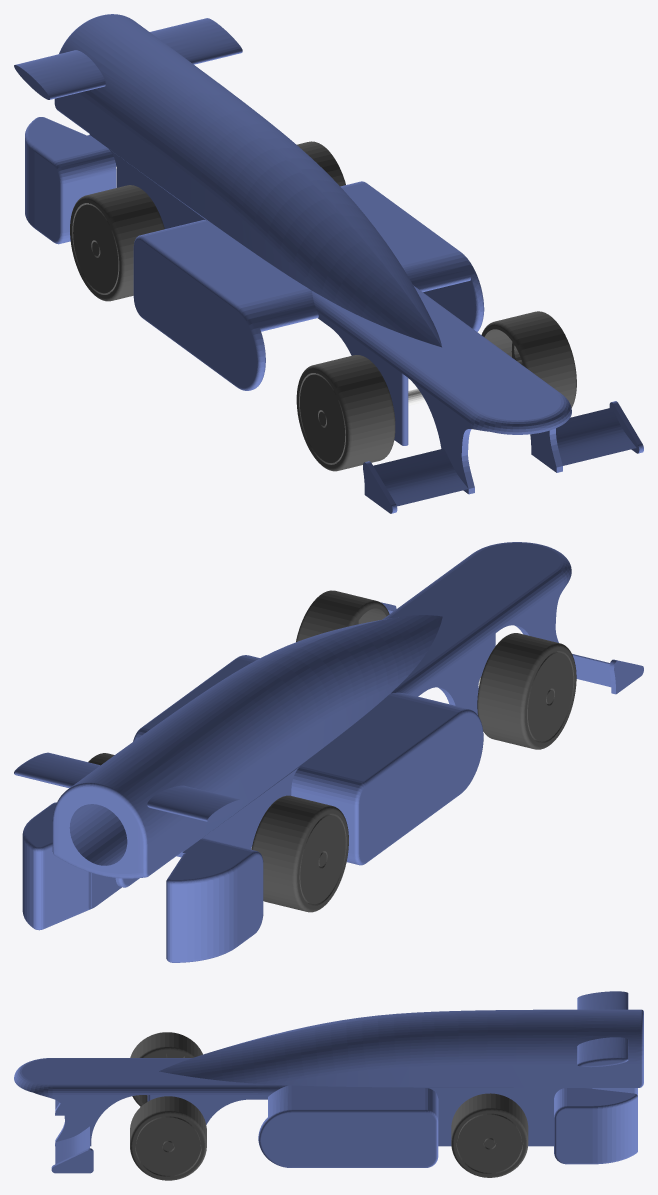
File: car.glb
The picture shows the model from 3 angles, top to bottom: view 1: azimuth 30°, elevation 25°; view 2: azimuth 150°, elevation 25°; view 3: azimuth 270°, elevation 25°; orthographic projection. The views are drawn at different scales.
Parts seen in each view (by area): view 1: Node1; view 2: Node1; view 3: Node1.
Boxes of the visible parts, box(x1,y1,x2,y2) form: Node1: box(14, 14, 643, 513); Node1: box(14, 542, 643, 962); Node1: box(14, 991, 643, 1180).
Bounding box in the file's own units: 80 × 55.08 × 245.
